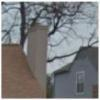chimneys: (28, 22, 48, 80)
